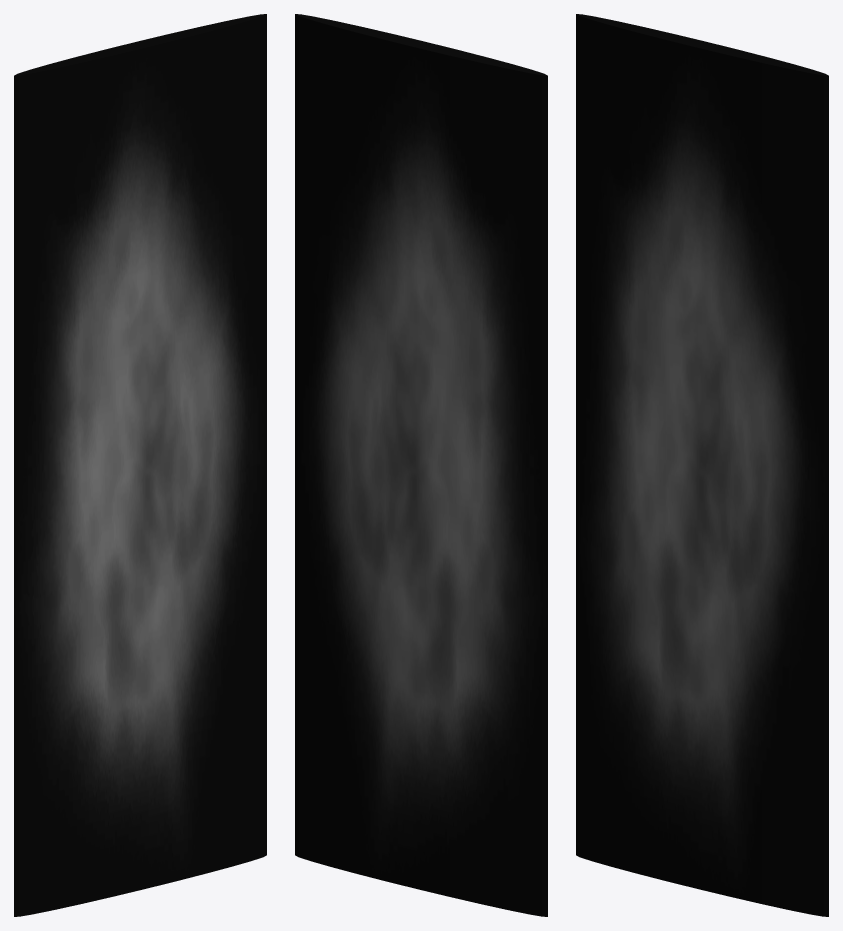
The model's file is 0348_jiguang.glb.
The picture shows the model from 3 angles, left to right: view 1: azimuth 30°, elevation 25°; view 2: azimuth 150°, elevation 25°; view 3: azimuth 330°, elevation 25°; orthographic projection.
Size of the model in its own units: 0.6918 by 2.2 by 0.0393.
1 material, 1 textured.
